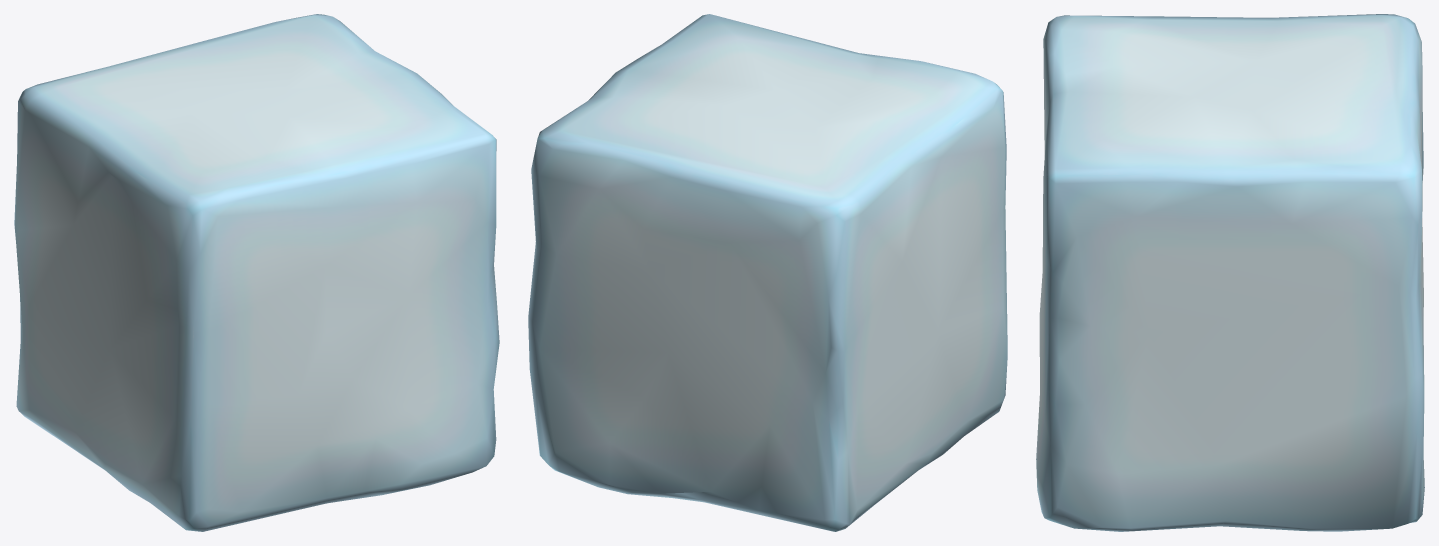
Rendered from blocks_koori.fbx.
The picture shows the model from 3 angles, left to right: view 1: azimuth 30°, elevation 25°; view 2: azimuth 150°, elevation 25°; view 3: azimuth 270°, elevation 25°; orthographic projection. The views are drawn at different scales.
Visible parts, largest first — view 1: koori; view 2: koori; view 3: koori.
Boxes of the visible parts, x1,y1,x2,y2 form: koori: (14,14,499,531); koori: (528,14,1007,531); koori: (1036,14,1424,531).
Bounding box in the file's own units: 95.89 × 96.92 × 92.01.
